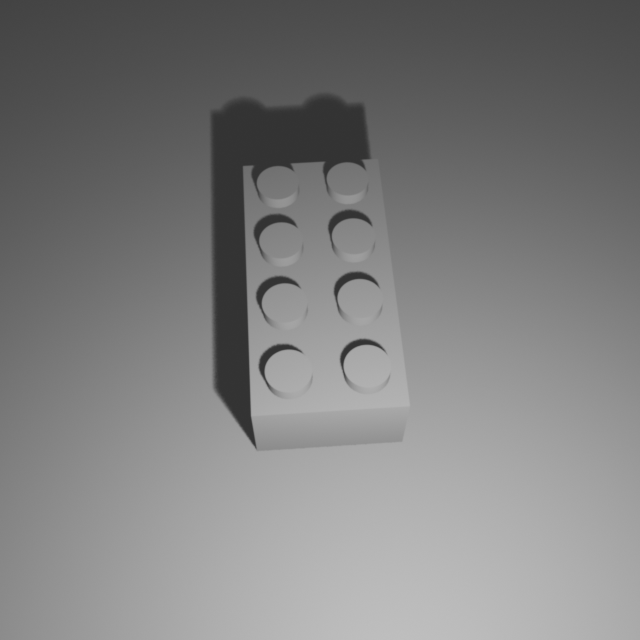lego_2x4: (242, 150, 411, 451)
